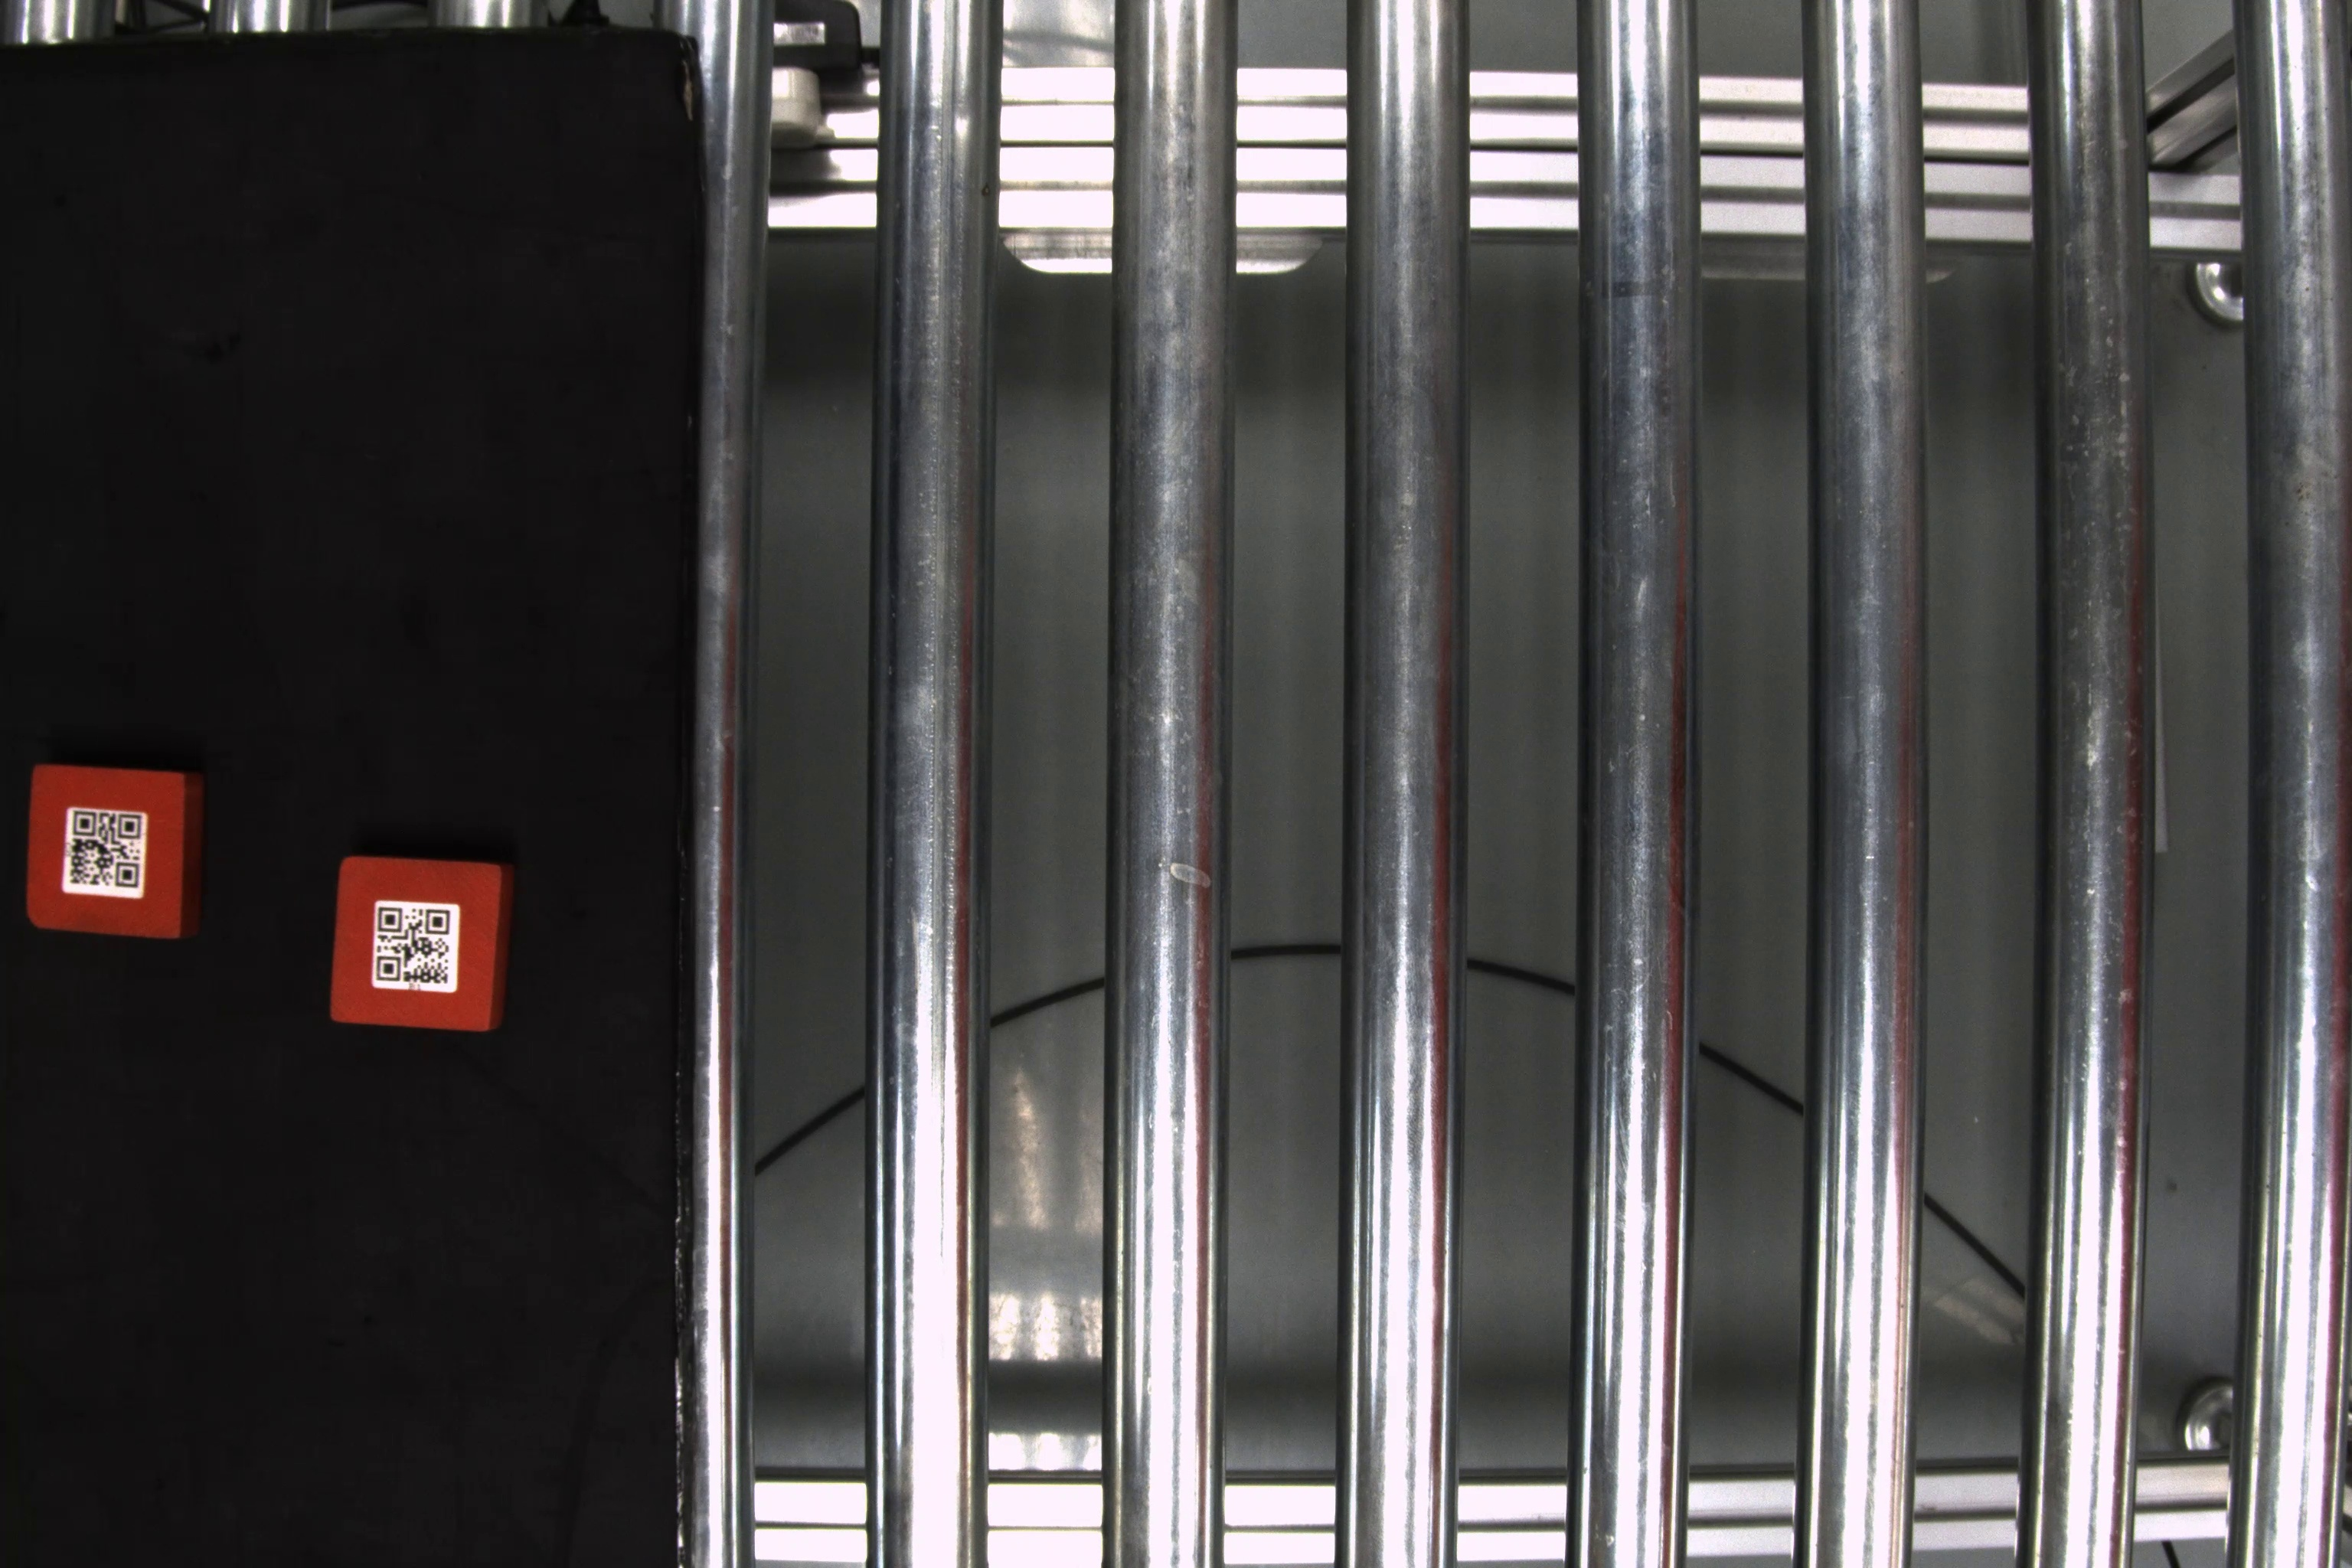wood: (331, 849, 521, 1041), (21, 759, 208, 943)
